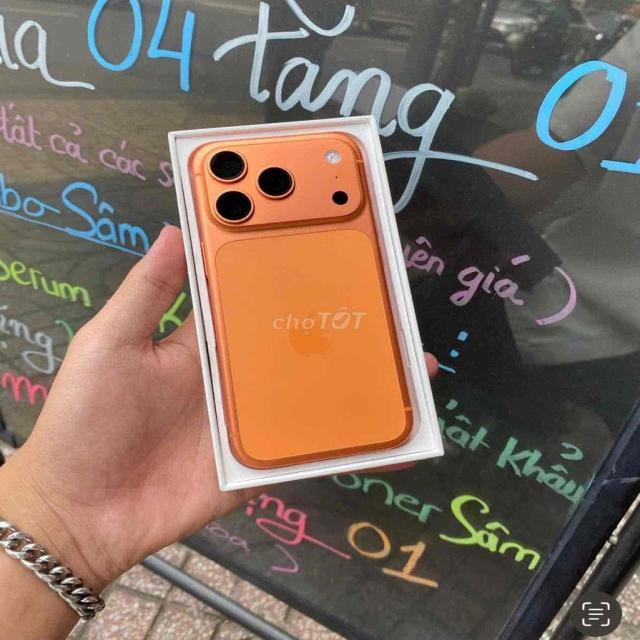gen_17: (185, 134, 422, 472)
